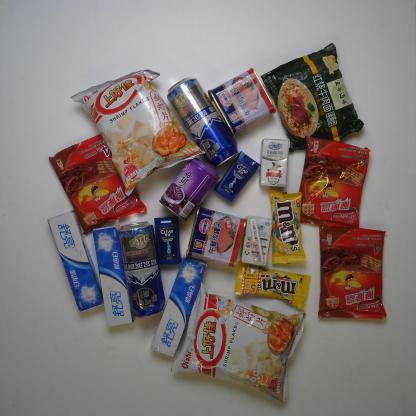Alcohol: (162, 73, 242, 171), (115, 219, 168, 320)
Canned Food: (206, 63, 279, 141), (158, 154, 222, 224), (183, 203, 248, 271)
Chocolate: (232, 258, 313, 312), (266, 187, 310, 267)
Dessert: (46, 130, 148, 237), (295, 132, 371, 235), (315, 222, 390, 323)
Instant Noodles: (258, 38, 369, 155)
Milk: (257, 135, 291, 192), (240, 214, 274, 270)
Personal Hygiene: (44, 206, 107, 314), (148, 252, 209, 360), (88, 224, 137, 330), (212, 149, 262, 204), (152, 214, 184, 268)
Puffed Food: (67, 63, 209, 200), (169, 280, 309, 404)
